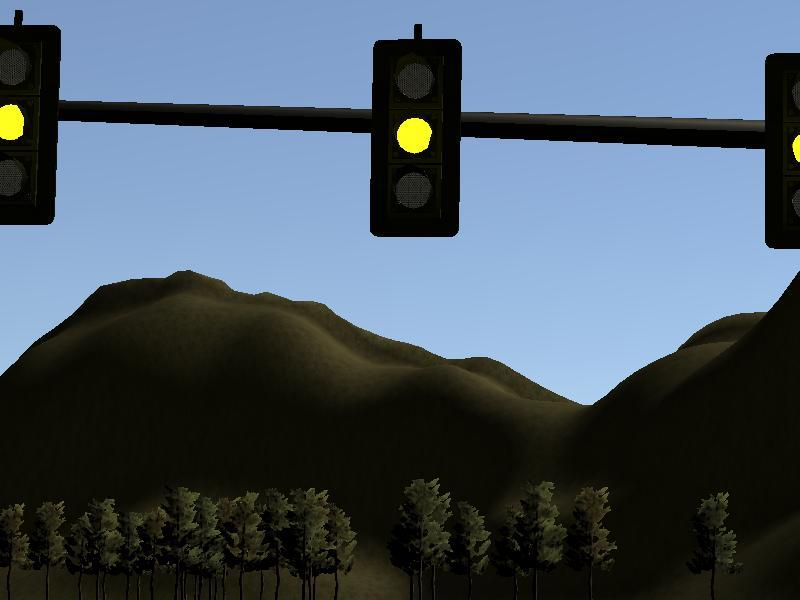Yellow: (371, 39, 462, 237), (1, 26, 59, 226), (764, 53, 800, 250)
